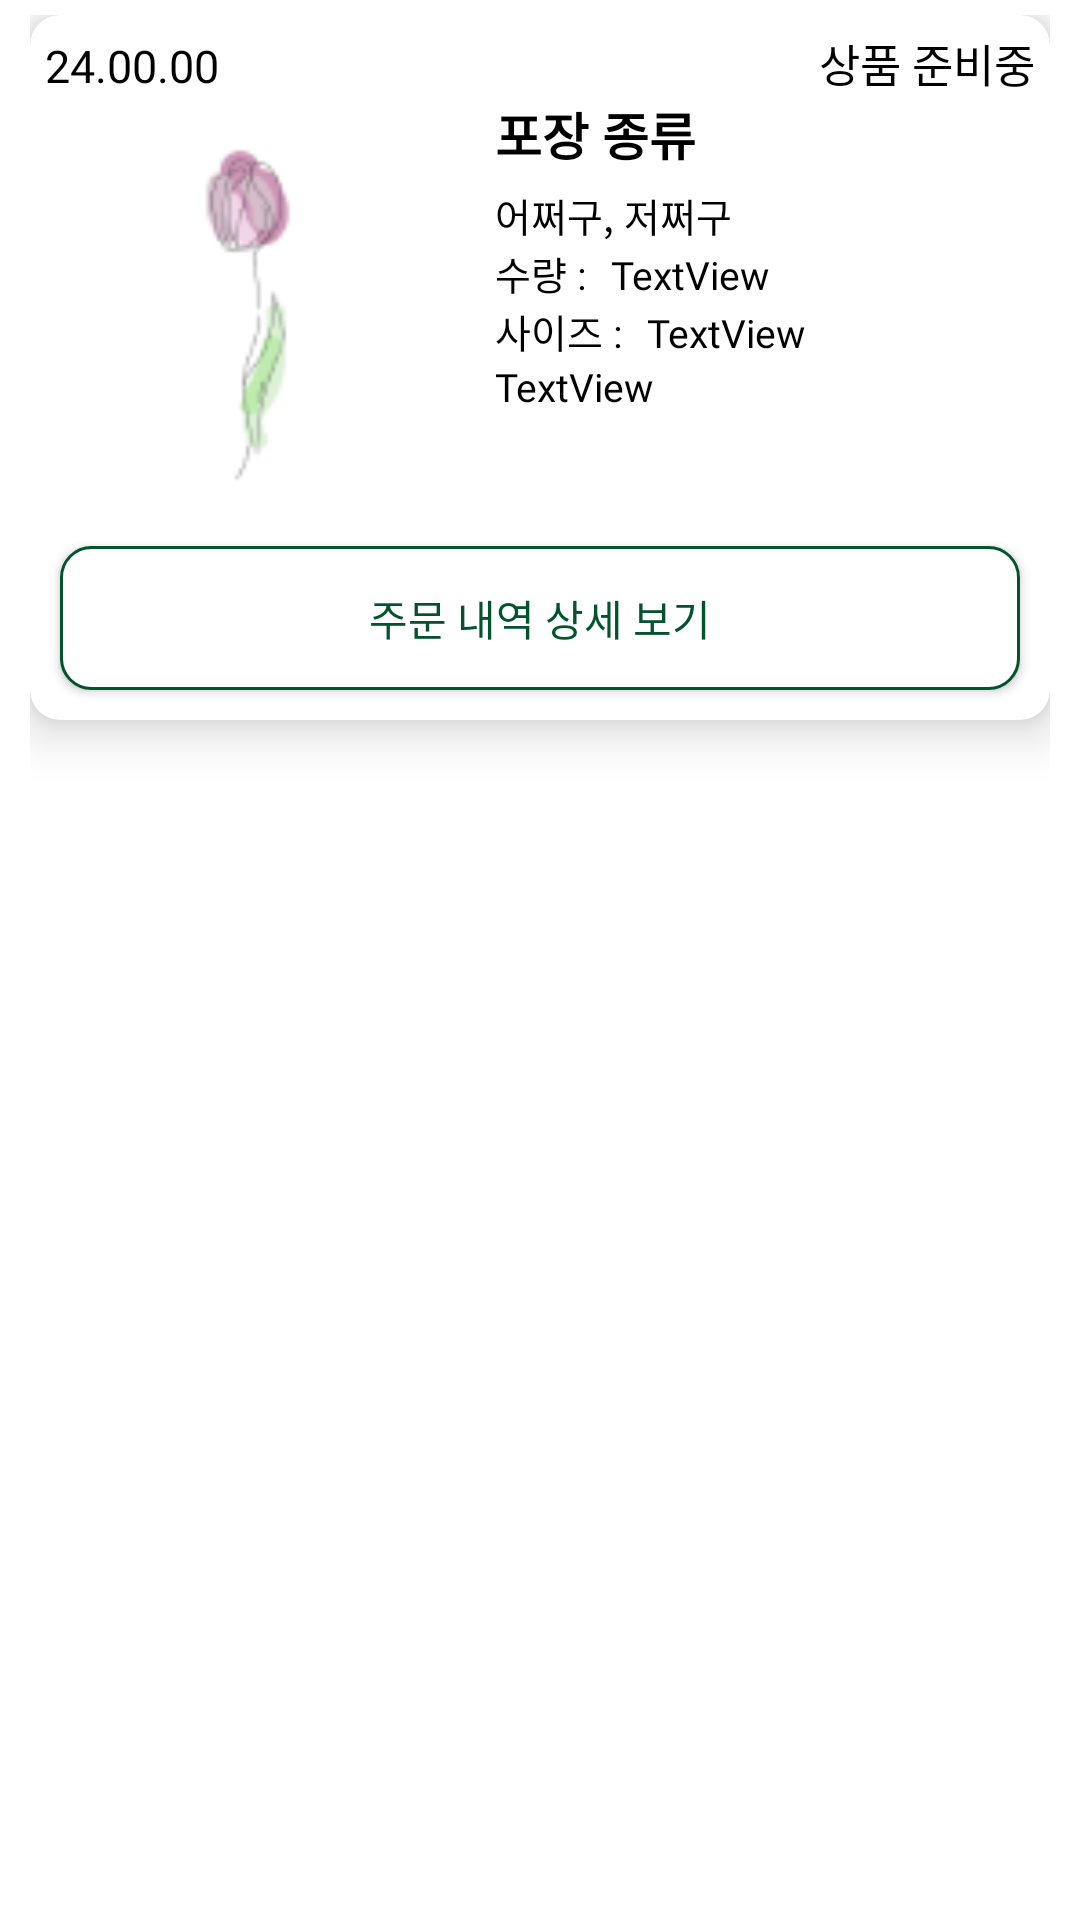

Locate icon controls on the screen. Image size 1080px x 1920px, boxes as (x1, y1, x2, y2).
flower: (206, 150, 290, 479)
